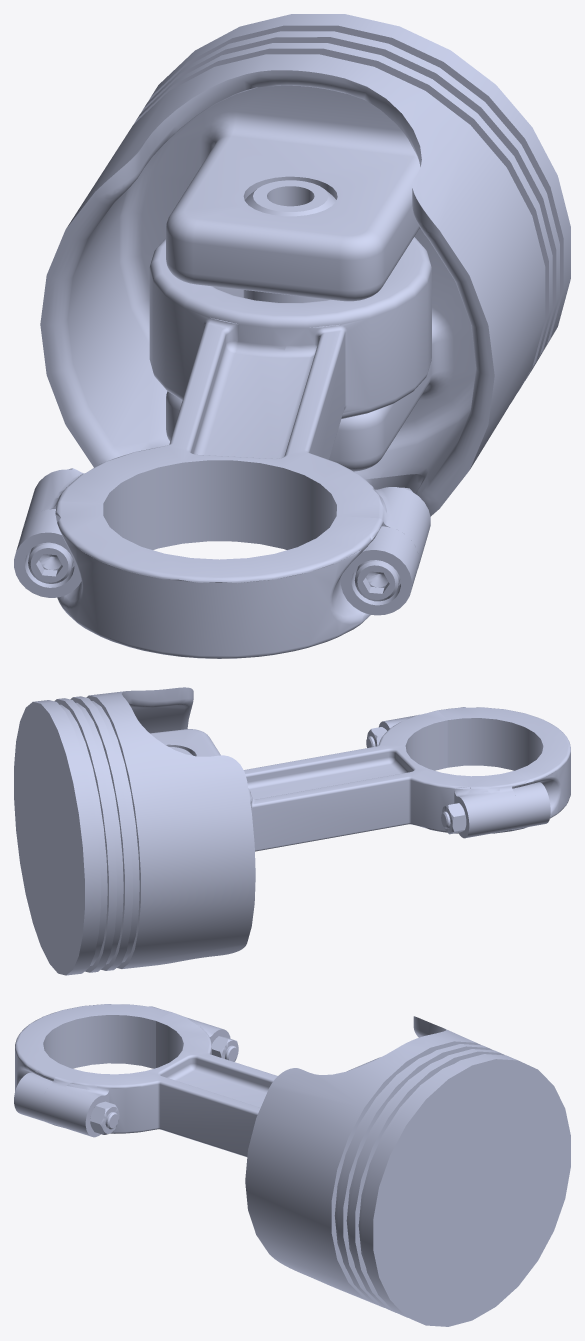
The model's file is ass_pist_f.005.fbx.
The picture shows the model from 3 angles, top to bottom: view 1: azimuth 30°, elevation 25°; view 2: azimuth 150°, elevation 25°; view 3: azimuth 270°, elevation 25°; orthographic projection. The views are drawn at different scales.
Parts seen in each view (by area): view 1: ME_A5; view 2: ME_A5; view 3: ME_A5.
Part boxes in pixels (bbox=[...]): ME_A5: bbox=[14, 14, 570, 658]; ME_A5: bbox=[14, 687, 570, 975]; ME_A5: bbox=[14, 1004, 570, 1326].
Size of the model in its own units: 22.94 by 12.7 by 25.12.
